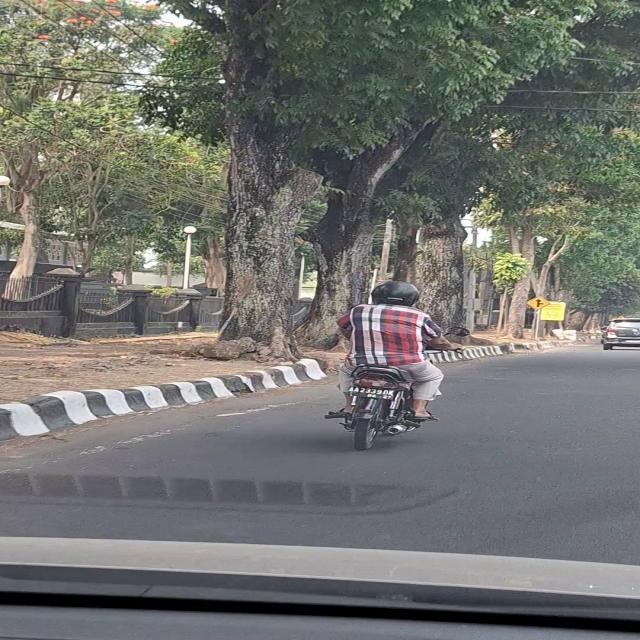WithHelmet: (336, 281, 463, 421)
